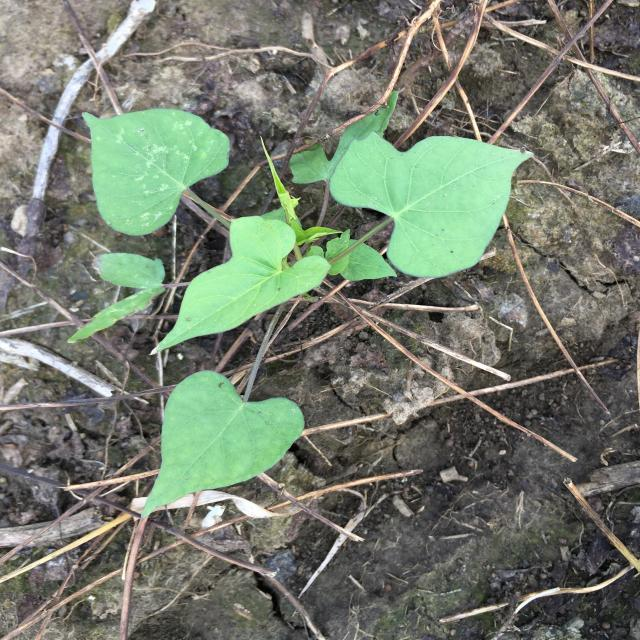MorningGlory: (67, 91, 534, 520)
